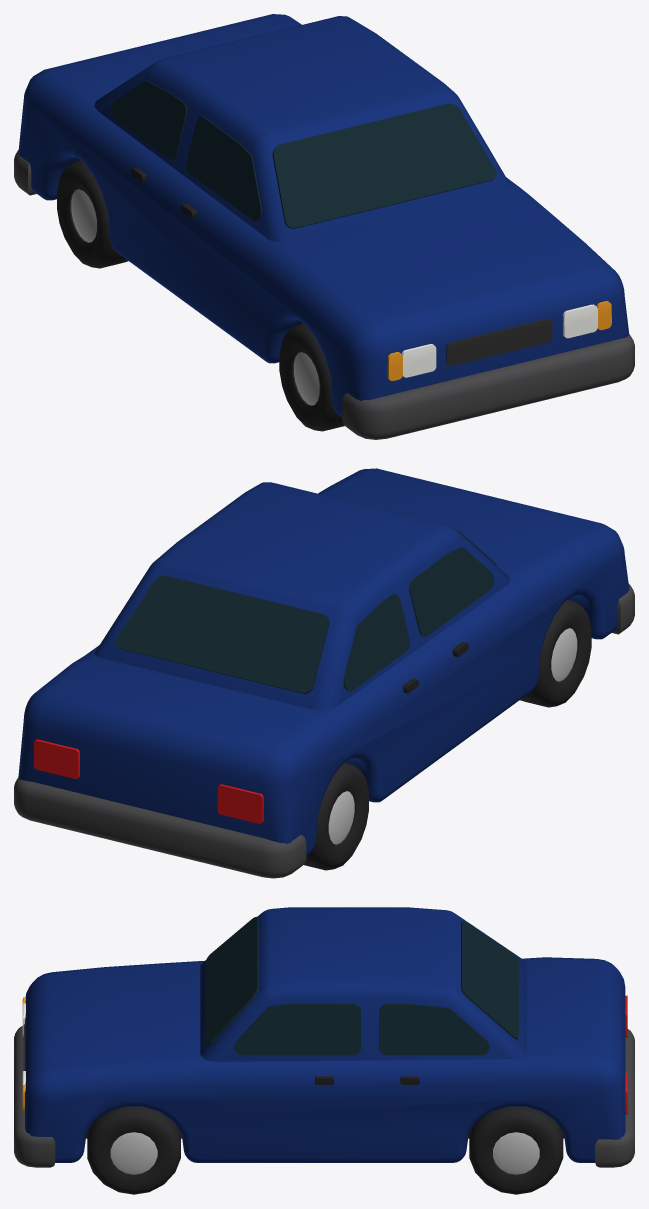
The model's file is car_sedan.glb.
3 views of the same model, one above another, from view 1: azimuth 30°, elevation 25°; view 2: azimuth 150°, elevation 25°; view 3: azimuth 270°, elevation 25° (orthographic). The views are drawn at different scales.
Parts seen in each view (by area): view 1: body, wheel_rear_right, wheel_front_right; view 2: body, wheel_front_right, wheel_rear_right; view 3: body, wheel_rear_left, wheel_front_left.
Boxes of the visible parts, bbox=[...] form: body: bbox=[14, 14, 634, 439]; wheel_rear_right: bbox=[57, 160, 128, 268]; wheel_front_right: bbox=[279, 323, 344, 431]; body: bbox=[14, 468, 634, 878]; wheel_front_right: bbox=[520, 599, 591, 707]; wheel_rear_right: bbox=[304, 762, 368, 870]; body: bbox=[14, 907, 634, 1167]; wheel_rear_left: bbox=[469, 1106, 563, 1194]; wheel_front_left: bbox=[87, 1106, 180, 1194].
Bounding box in the file's own units: 2 × 1.58 × 4.5.
